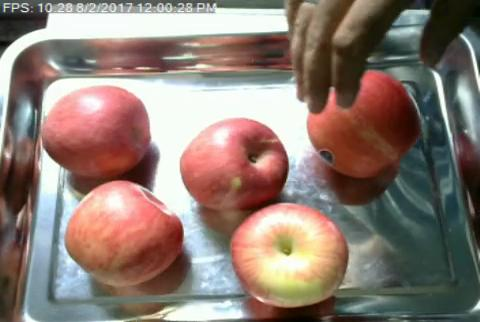apple: (230, 202, 350, 308), (64, 182, 185, 287), (310, 71, 423, 178), (41, 85, 150, 180), (179, 117, 288, 210)
